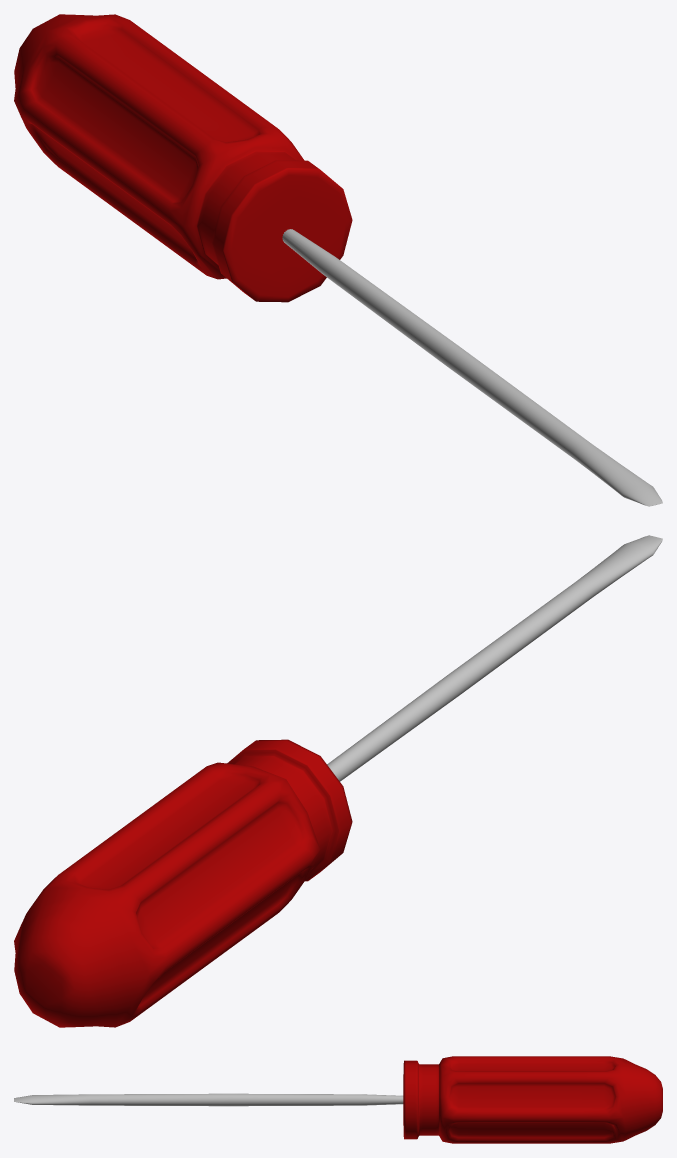
File: screwdriver.fbx
3 renders of one model, top to bottom at view 1: azimuth 30°, elevation 25°; view 2: azimuth 150°, elevation 25°; view 3: azimuth 270°, elevation 25°, orthographic. The views are drawn at different scales.
Parts seen in each view (by area): view 1: polySurface1; view 2: polySurface1; view 3: polySurface1.
Part boxes in pixels (<box>): polySurface1: <box>14,14,662,506</box>; polySurface1: <box>14,535,662,1027</box>; polySurface1: <box>14,1056,662,1143</box>.
Size of the model in its own units: 0.6504 by 0.5777 by 4.82.
